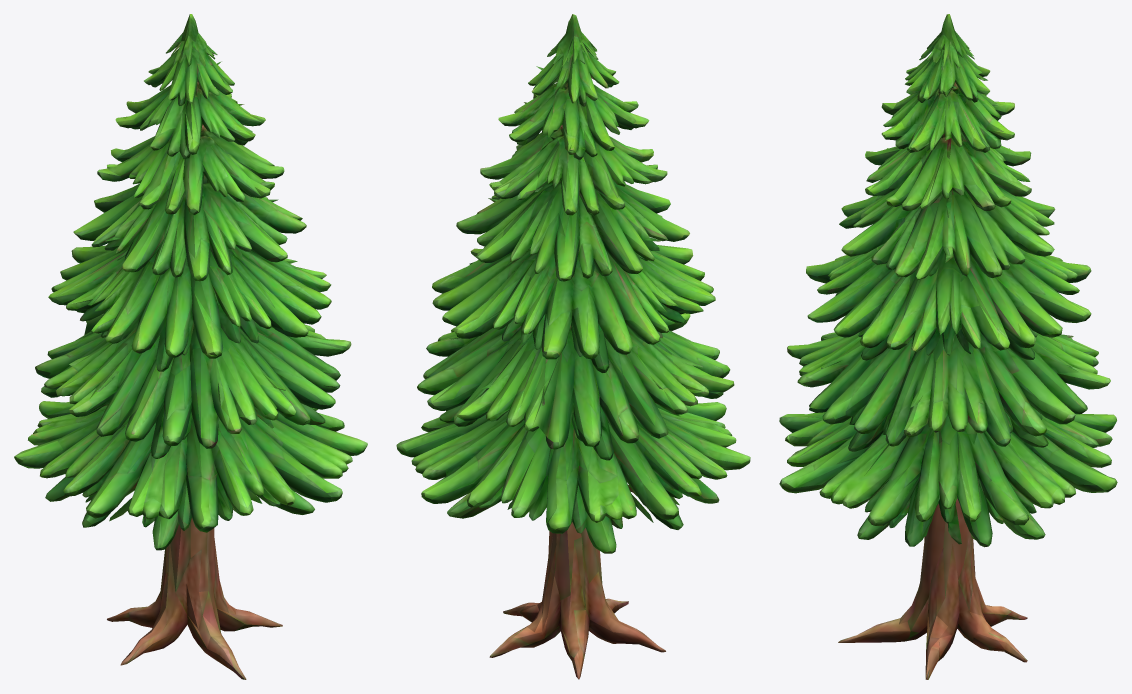
The model's file is prop_pine.glb.
3 renders of one model, left to right at view 1: azimuth 30°, elevation 25°; view 2: azimuth 150°, elevation 25°; view 3: azimuth 270°, elevation 25°, orthographic.
Size of the model in its own units: 0.8913 by 1.9 by 0.9241.
1 material, 1 textured.
